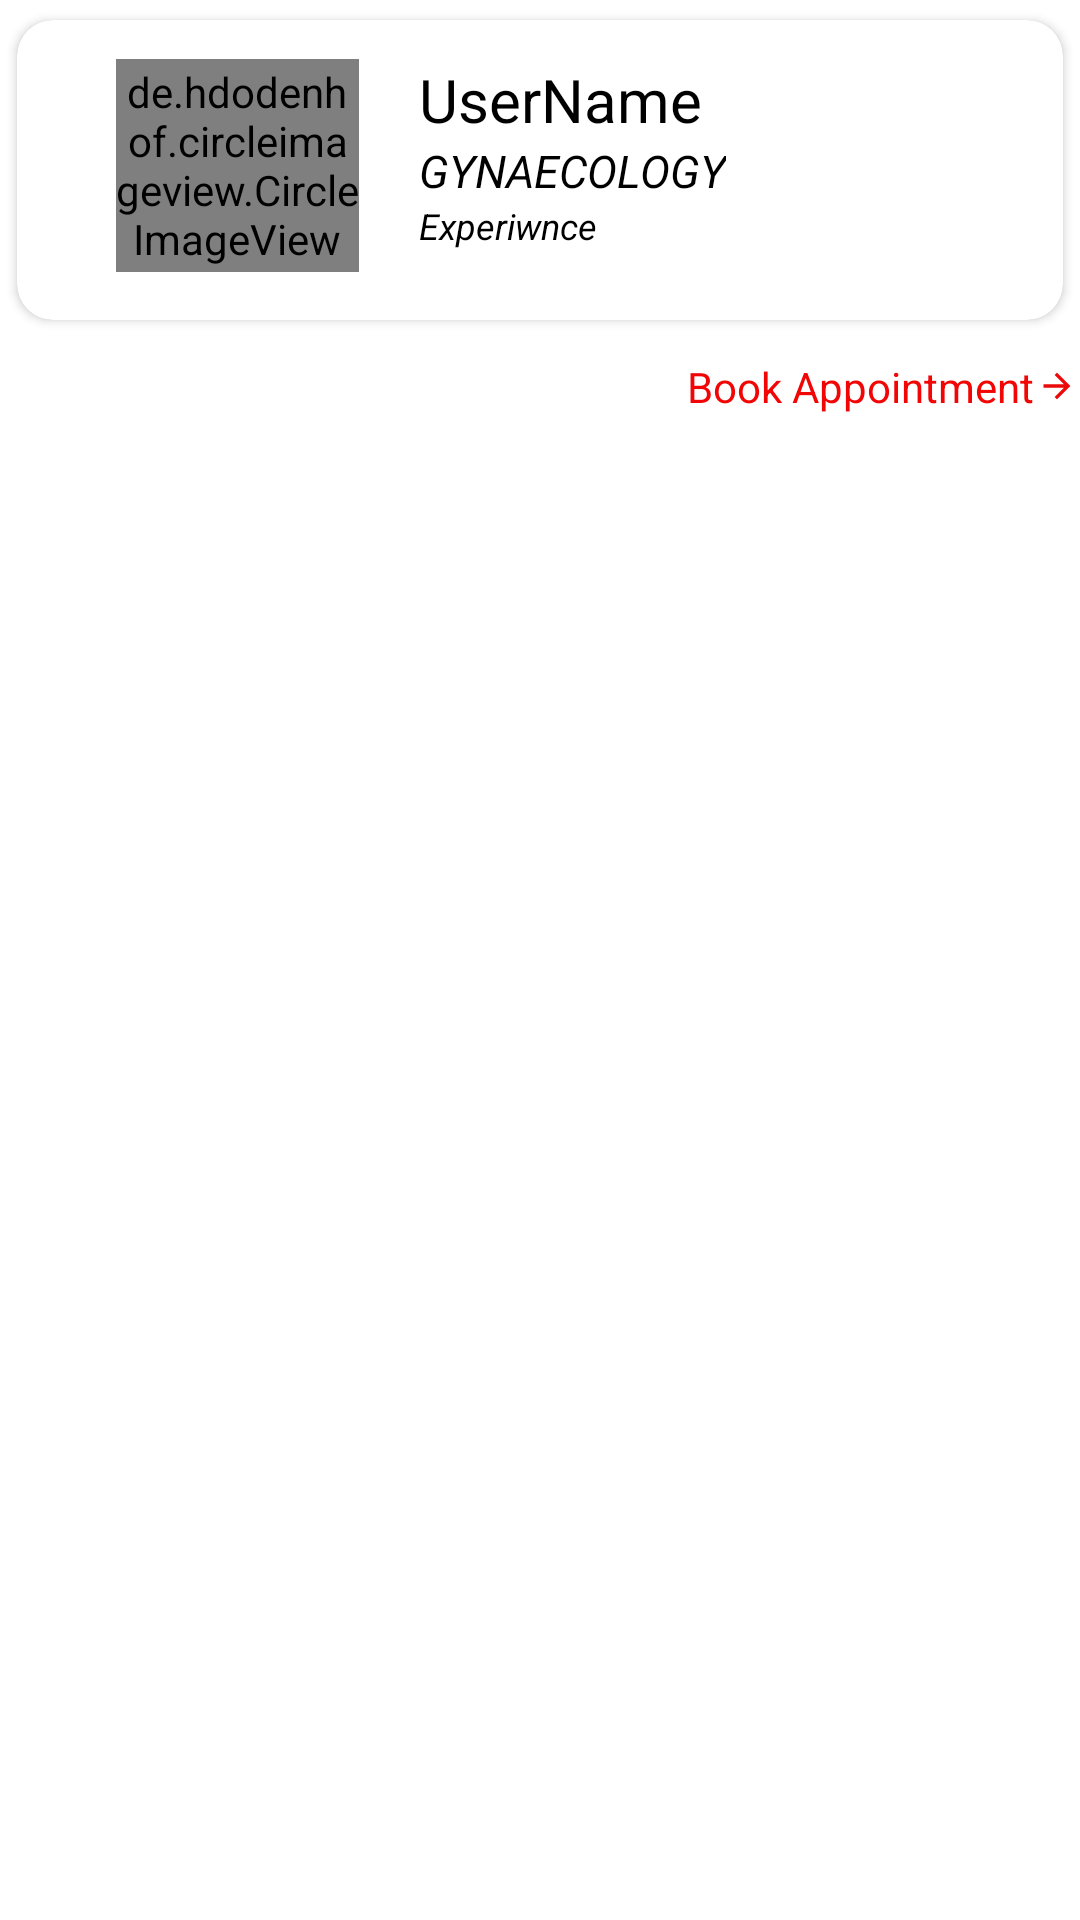

Where to tap for icons on this 1080 × 1920 app screen, as (x=x, y=y):
arrowright: (x=1056, y=386)
